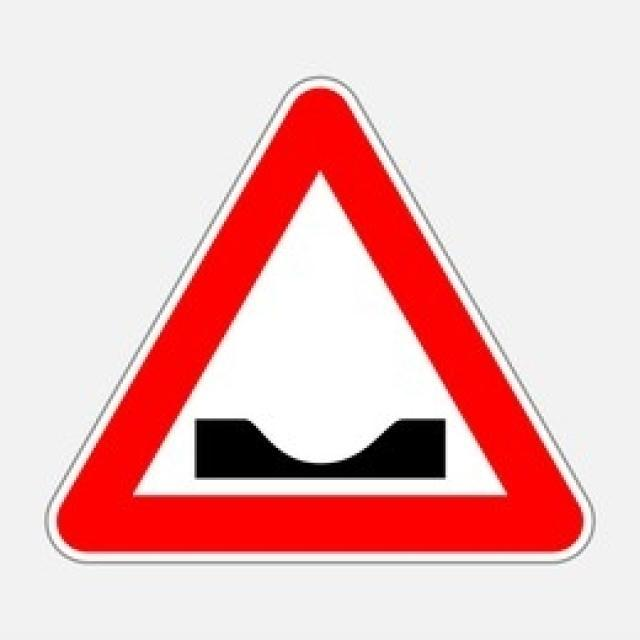dangerous dip: (46, 80, 595, 568)
